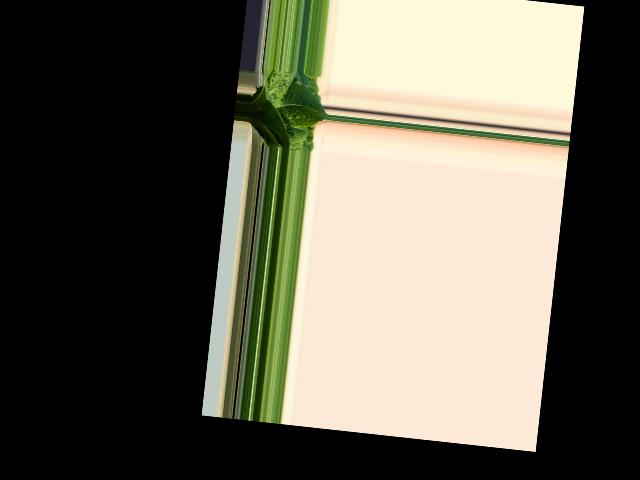lettuce: (245, 75, 324, 151)
